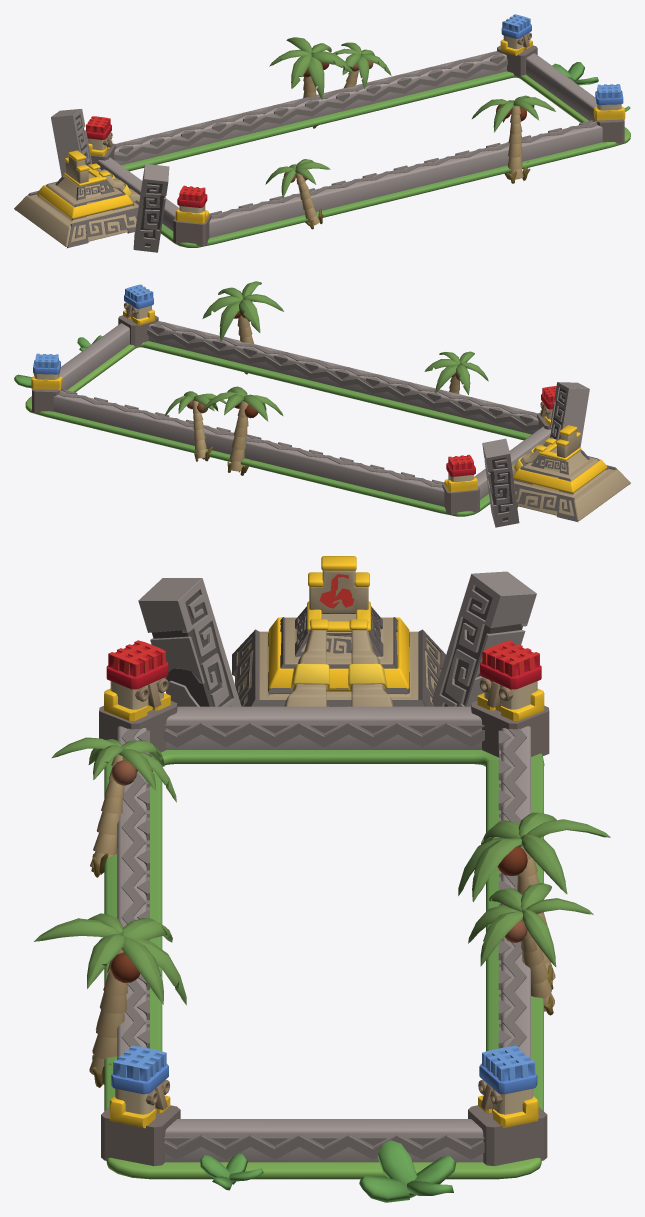
File: Arena7.fbx
3 views of the same model, one above another, from view 1: azimuth 30°, elevation 25°; view 2: azimuth 150°, elevation 25°; view 3: azimuth 270°, elevation 25° (orthographic). The views are drawn at different scales.
Parts seen in each view (by area): view 1: Cube.112, Circle.095, Circle.101, Circle.097, Circle.098, Circle.099, palmtree.015, palmtree.013, Circle.113, Circle.096, Cube.113, Cube.111 (+6 smaller); view 2: Cube.112, Circle.097, Circle.113, Circle.095, Circle.099, Circle.098, palmtree.013, palmtree.015, Circle.101, Circle.096, Cube.110, Cube.137 (+6 smaller); view 3: Cube.112, Circle.087, Circle.096, palmtree.013, Cube.111, Cube.137, Cube.110, palmtree.015, Cube.113, palmtree.014, Circle.100, Circle.110 (+11 smaller).
Part boxes in pixels (<box>): Cube.112: <box>14,109,169,252</box>; Circle.095: <box>209,121,602,237</box>; Circle.101: <box>114,51,507,161</box>; Circle.097: <box>114,51,506,165</box>; Circle.098: <box>121,71,512,171</box>; Circle.099: <box>212,142,608,243</box>; palmtree.015: <box>269,37,353,128</box>; palmtree.013: <box>472,95,555,183</box>; Circle.113: <box>209,120,597,218</box>; Circle.096: <box>526,53,596,121</box>; Cube.113: <box>173,185,211,246</box>; Cube.111: <box>497,14,537,77</box>; Cube.112: <box>482,382,630,527</box>; Circle.097: <box>53,390,444,506</box>; Circle.113: <box>147,321,539,430</box>; Circle.095: <box>148,321,538,434</box>; Circle.099: <box>143,341,531,440</box>; Circle.098: <box>48,411,441,512</box>; palmtree.013: <box>202,281,283,374</box>; palmtree.015: <box>202,386,283,475</box>; Circle.101: <box>59,389,443,487</box>; Circle.096: <box>59,323,129,390</box>; Cube.110: <box>442,454,479,514</box>; Cube.137: <box>118,284,158,346</box>; Cube.112: <box>138,556,536,706</box>; Circle.087: <box>166,706,481,749</box>; Circle.096: <box>165,1119,483,1162</box>; palmtree.013: <box>34,913,186,1087</box>; Cube.111: <box>468,1045,547,1166</box>; Cube.137: <box>101,1045,180,1166</box>; Cube.110: <box>471,640,549,757</box>; palmtree.015: <box>458,812,610,989</box>; Cube.113: <box>99,640,177,756</box>; palmtree.014: <box>468,883,593,1015</box>; Circle.100: <box>106,1157,541,1179</box>; Circle.110: <box>163,722,484,747</box>.
Bounding box in the file's own units: 47.05 × 7 × 20.83.
